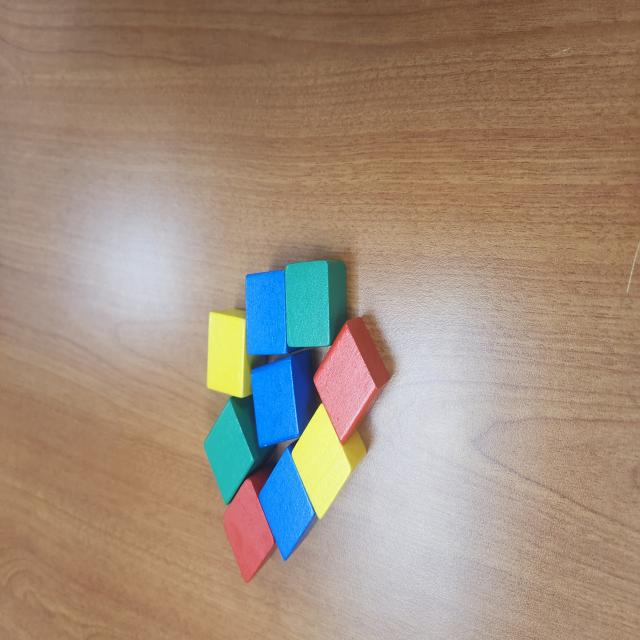blue: (256, 438, 320, 560), (251, 348, 323, 450), (245, 270, 288, 358)
green: (204, 396, 278, 506), (282, 260, 352, 350)
red: (312, 317, 391, 446), (222, 466, 279, 584)
yellow: (290, 400, 367, 520), (208, 311, 252, 399)
